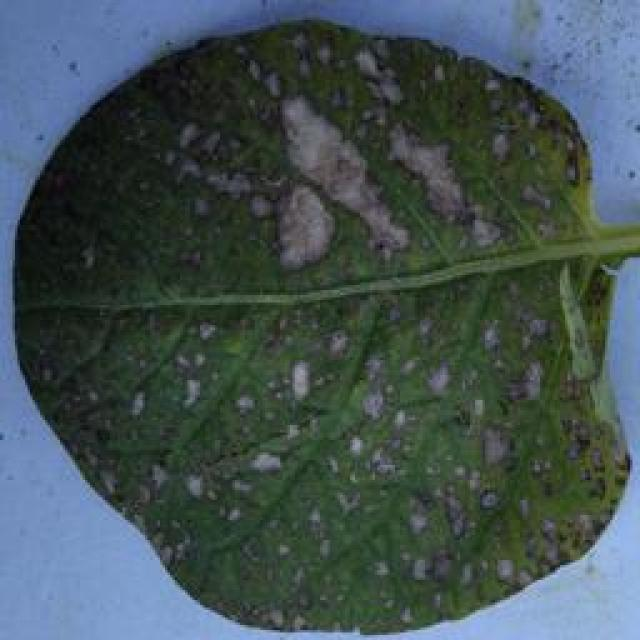Potato_Early_Blight: (15, 30, 630, 640)
